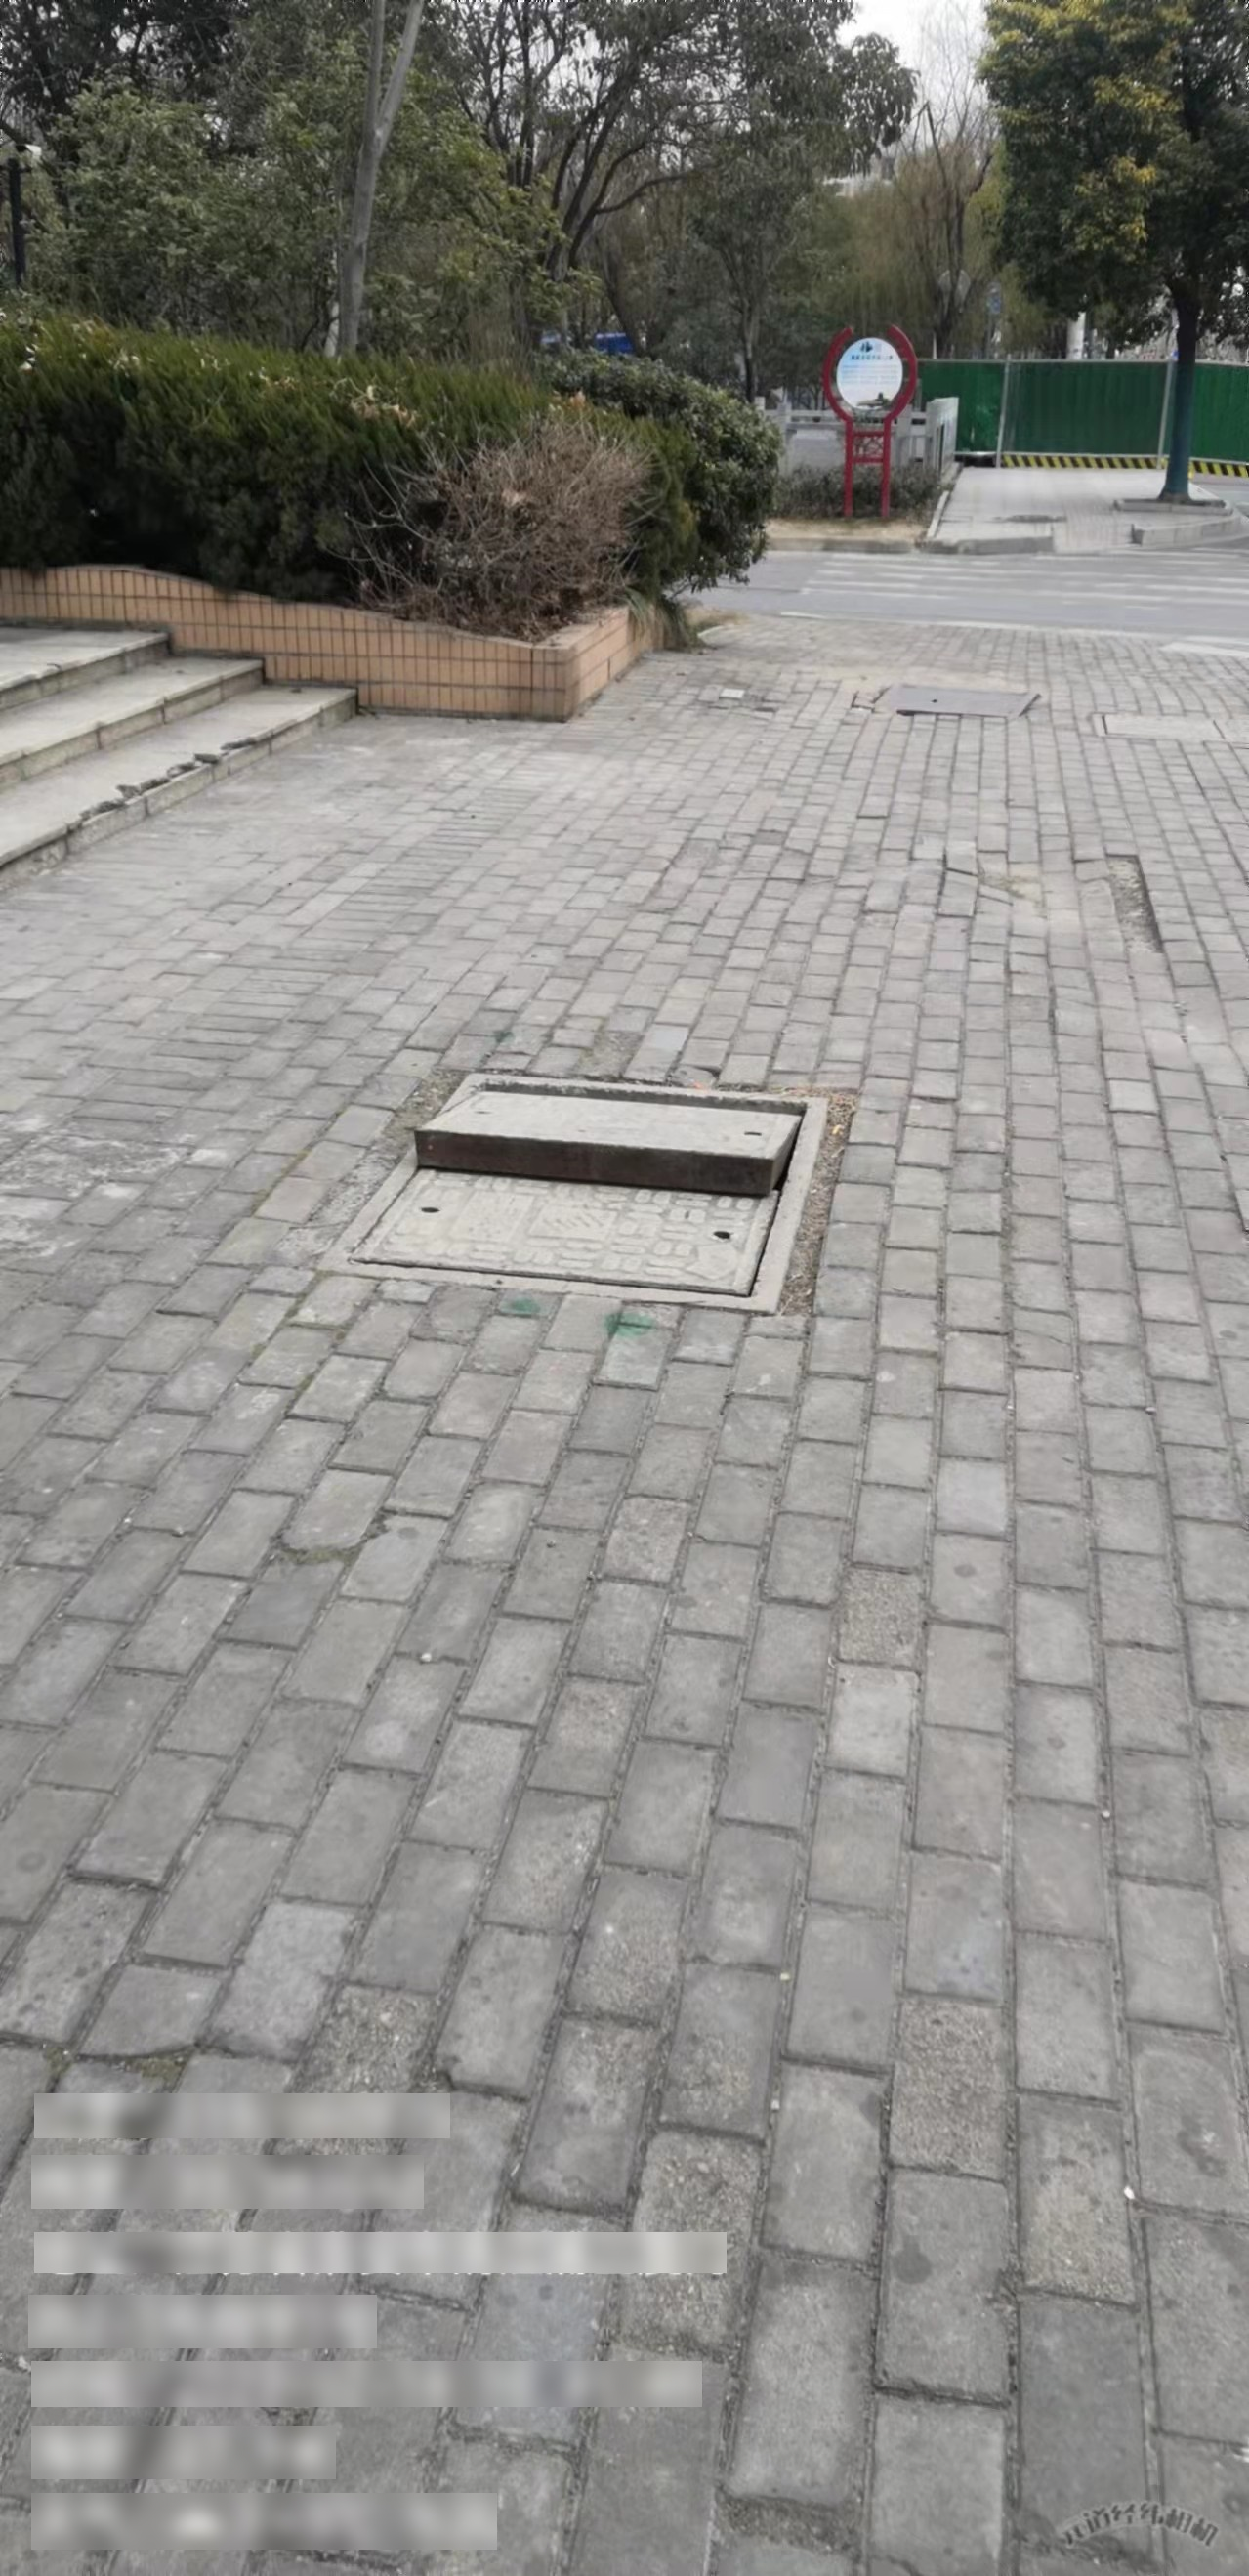uncovered: (313, 1063, 824, 1313)
